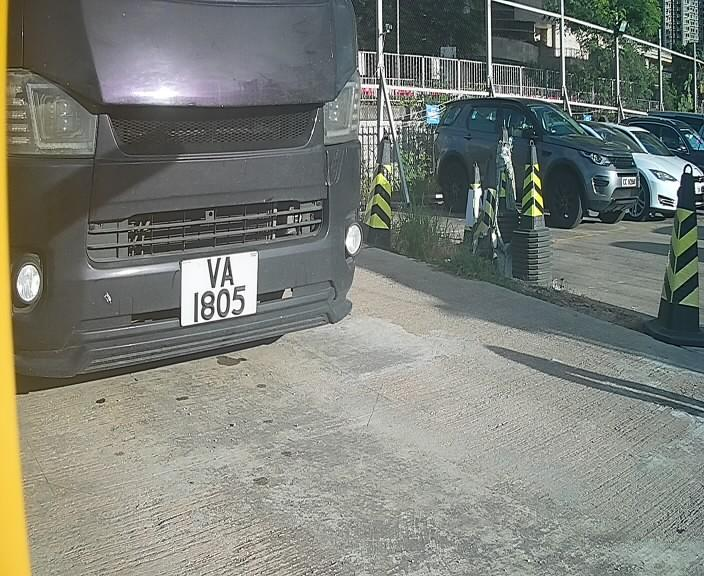Car: (19, 11, 441, 397)
License Plate: (173, 247, 261, 330)
